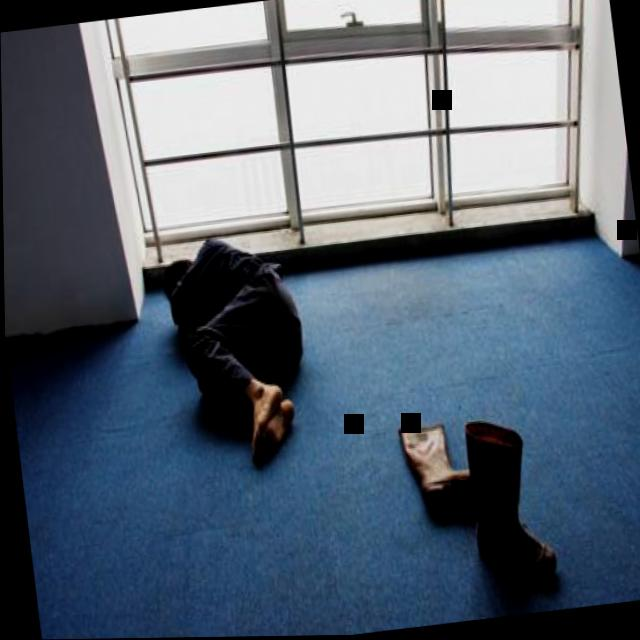Fall-Detected: (141, 219, 322, 475)
